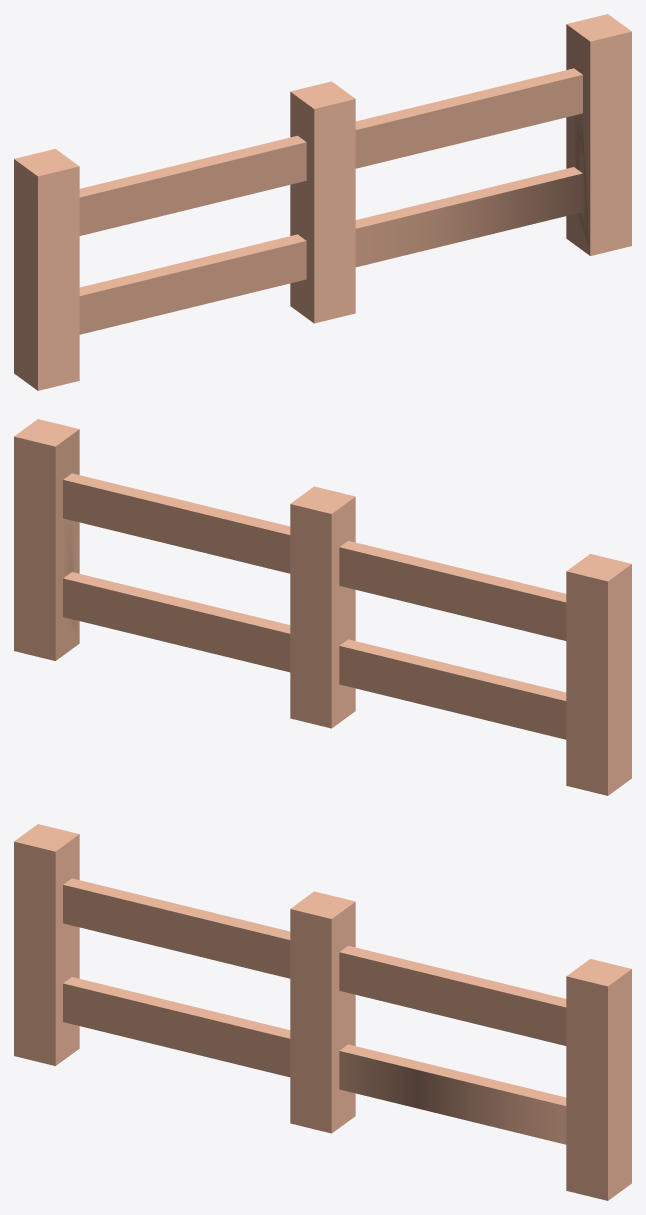
The model's file is fence_simpleCenter.gltf.
3 renders of one model, top to bottom at view 1: azimuth 30°, elevation 25°; view 2: azimuth 150°, elevation 25°; view 3: azimuth 330°, elevation 25°, orthographic.
Visible parts, largest first — view 1: fence_simpleCenter; view 2: fence_simpleCenter; view 3: fence_simpleCenter.
Boxes of the visible parts, <box> form: fence_simpleCenter: <box>14,14,631,390</box>; fence_simpleCenter: <box>14,419,631,795</box>; fence_simpleCenter: <box>14,824,631,1200</box>.
Bounding box in the file's own units: 1 × 0.345 × 0.07.
